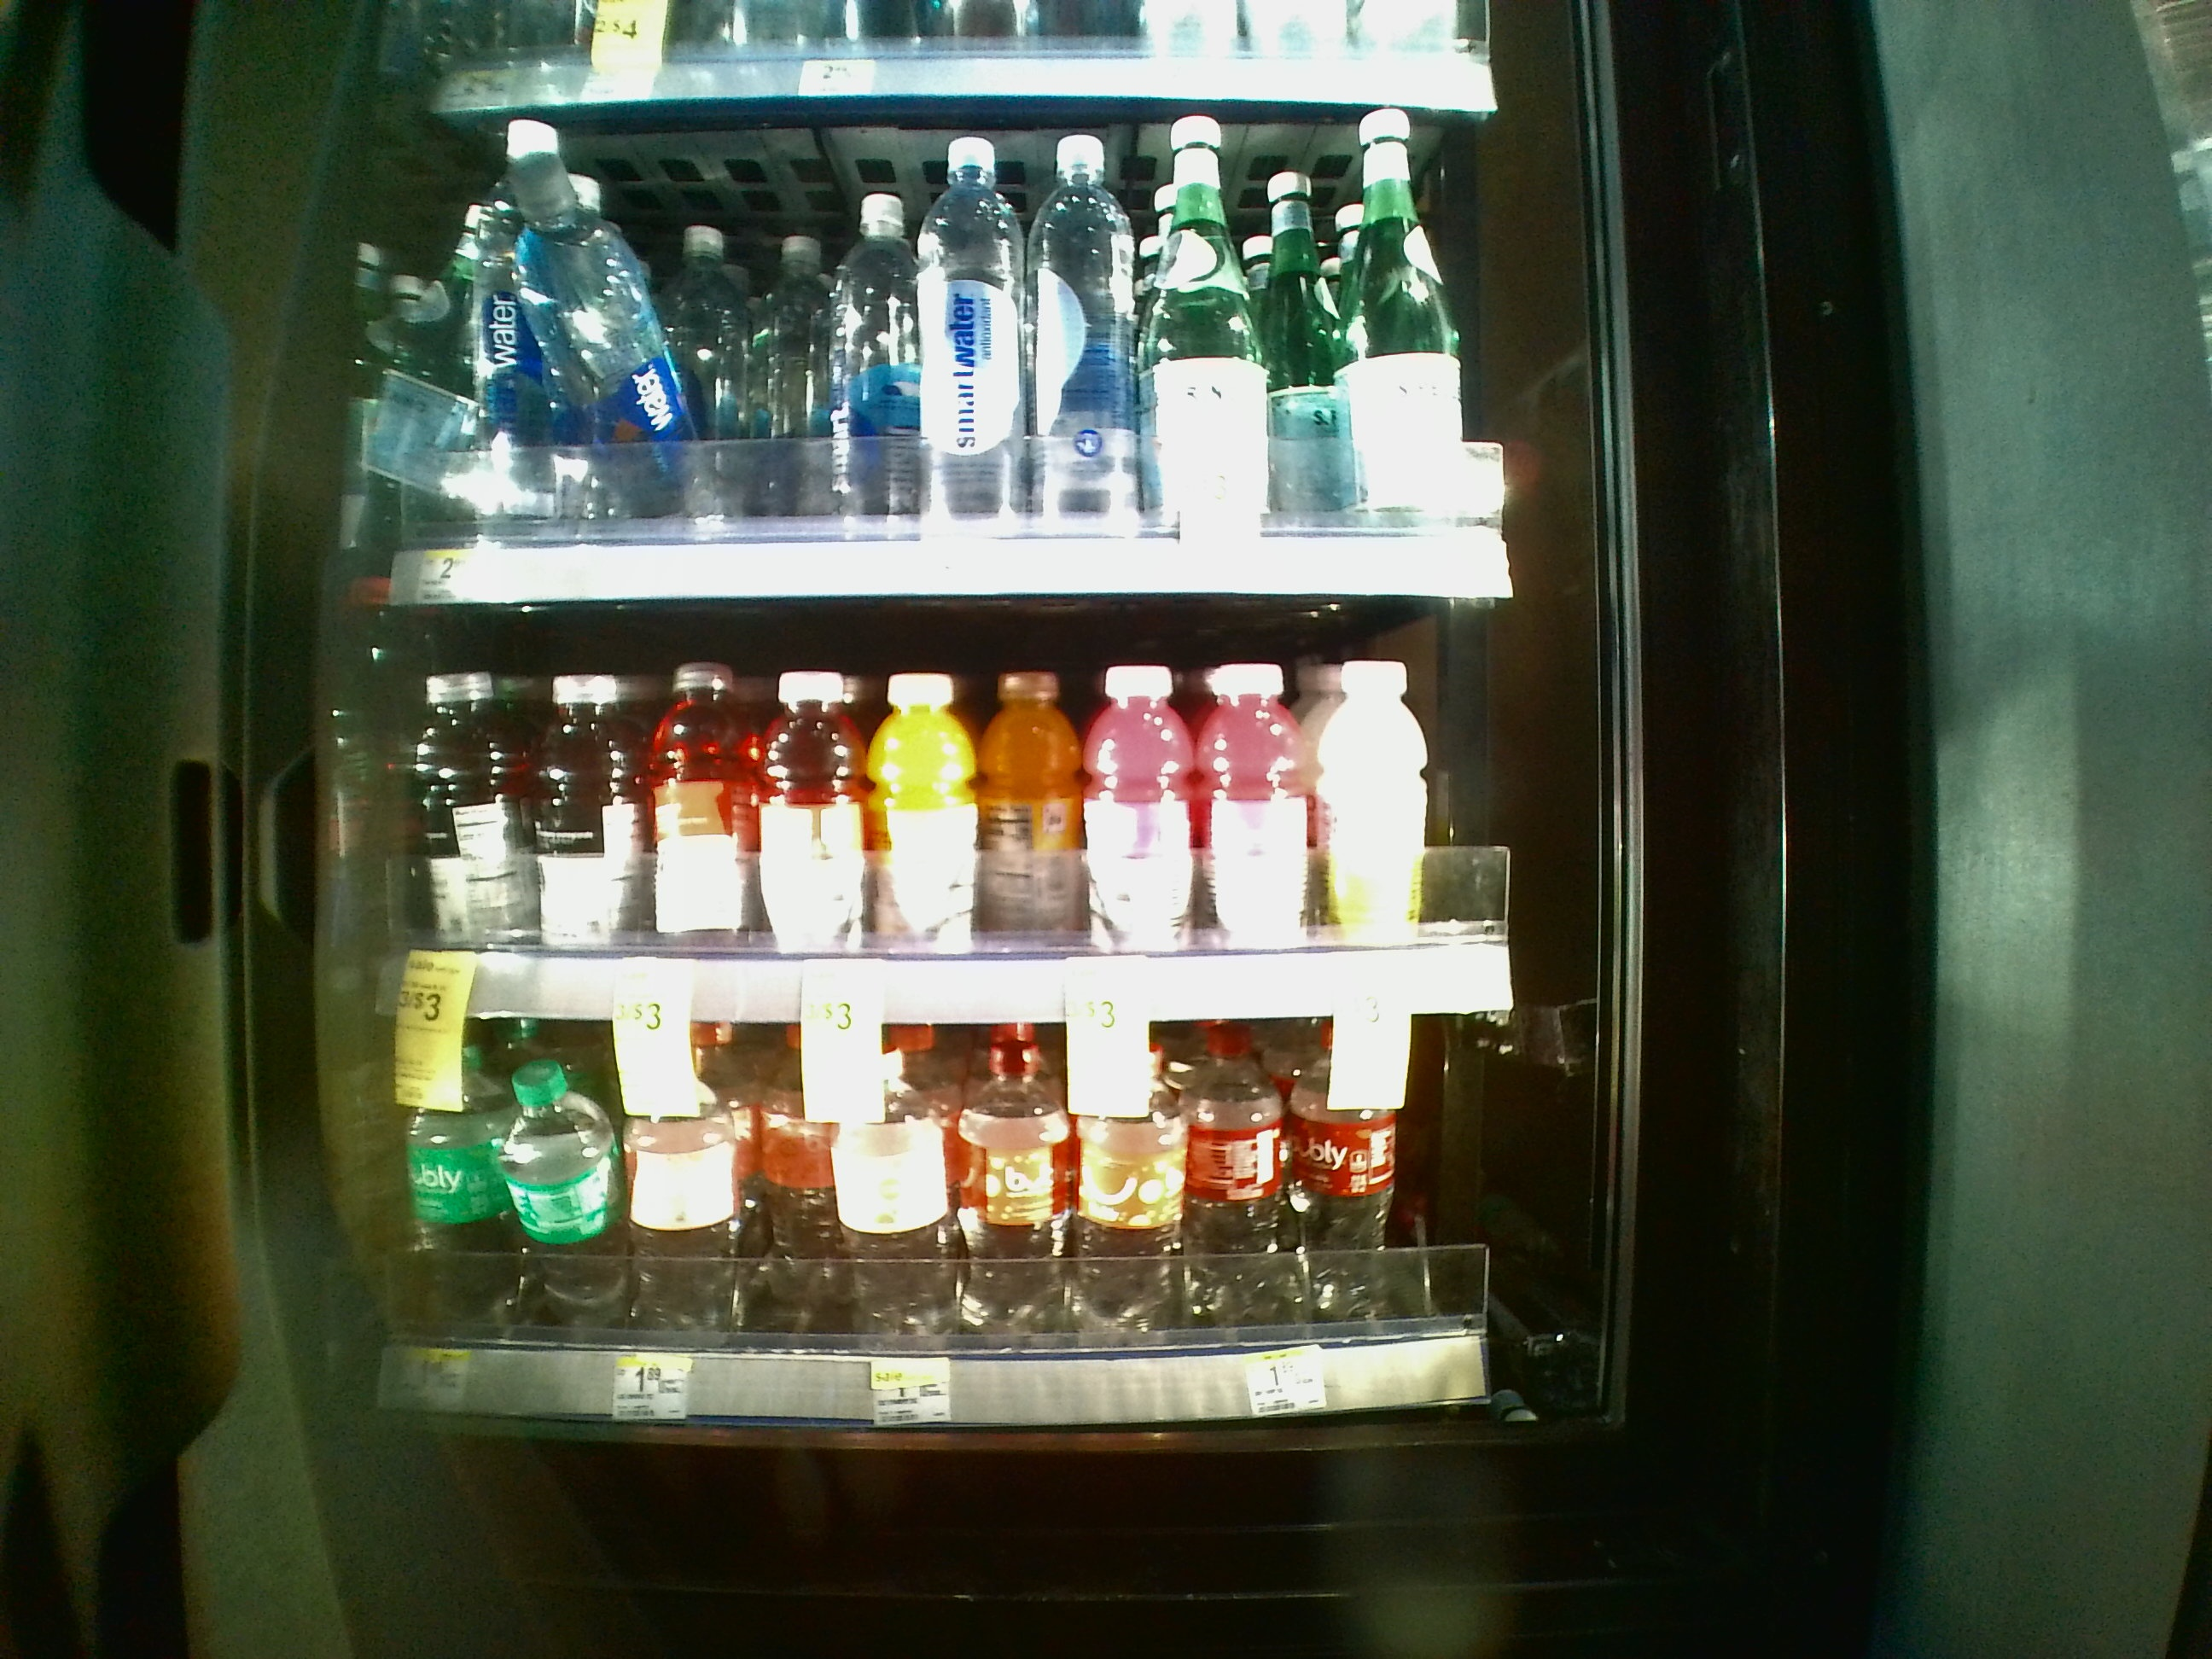Shelf: (324, 106, 1550, 603), (324, 598, 1550, 1023), (320, 1023, 1554, 1424)
